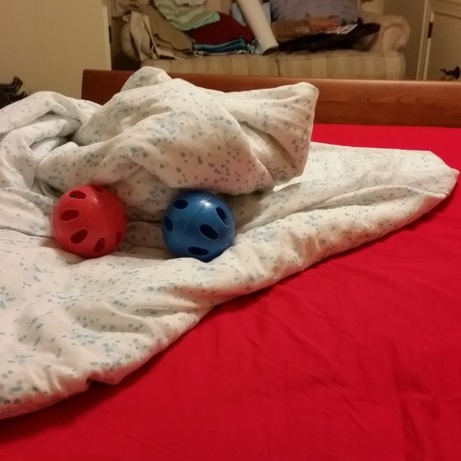blueball: (156, 185, 240, 263)
redball: (49, 179, 132, 260)
